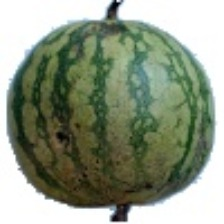watermelon: (25, 0, 212, 191)
